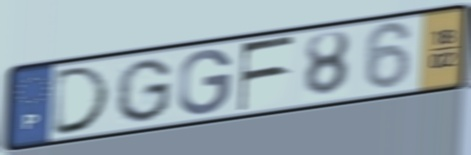6: (360, 18, 419, 94)
8: (301, 30, 354, 101)
D: (48, 62, 115, 139)
F: (236, 33, 298, 115)
G: (112, 56, 175, 125), (176, 46, 236, 118)
